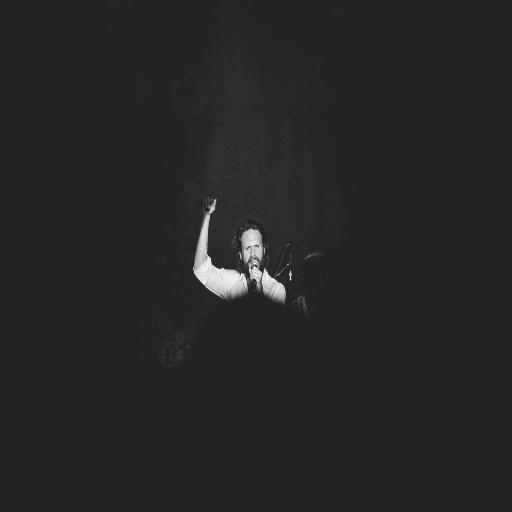hand: (246, 264, 262, 294), (201, 194, 216, 215)
